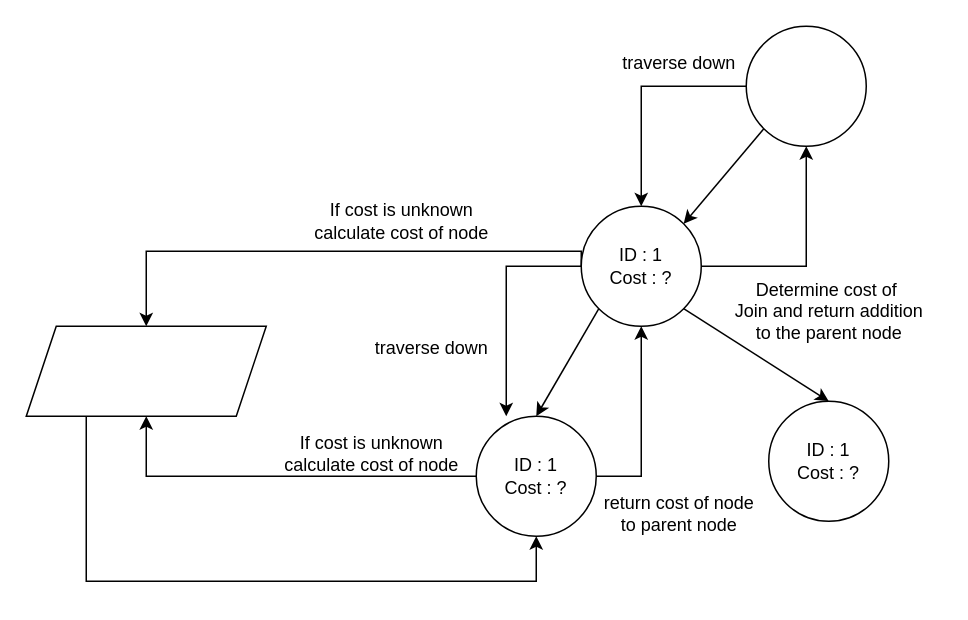
Some shapes in this 968 by 620 pixel diagram are drawn without their labels. The shapes that lost their labels are listed below. From the top down, each one's centre as x and y in pixels, then its label:
At [805,85]: "Root".
At [145,370]: "calculate_subnode_cost".
